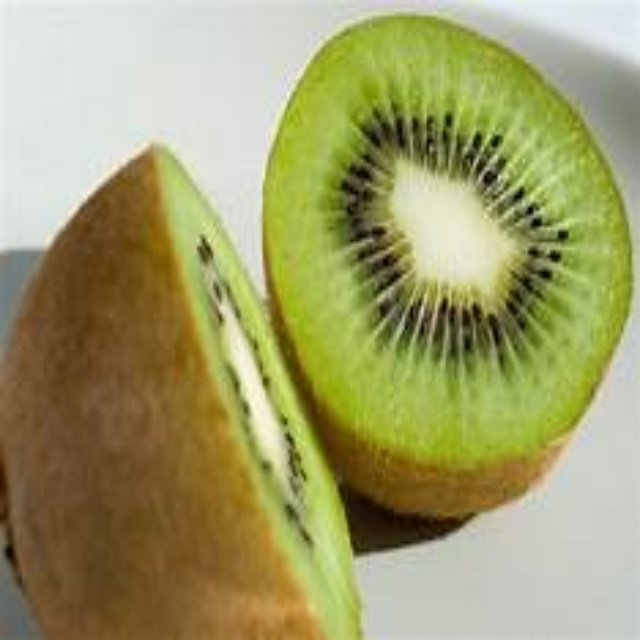kiwi: (280, 14, 628, 520), (6, 146, 367, 631)
